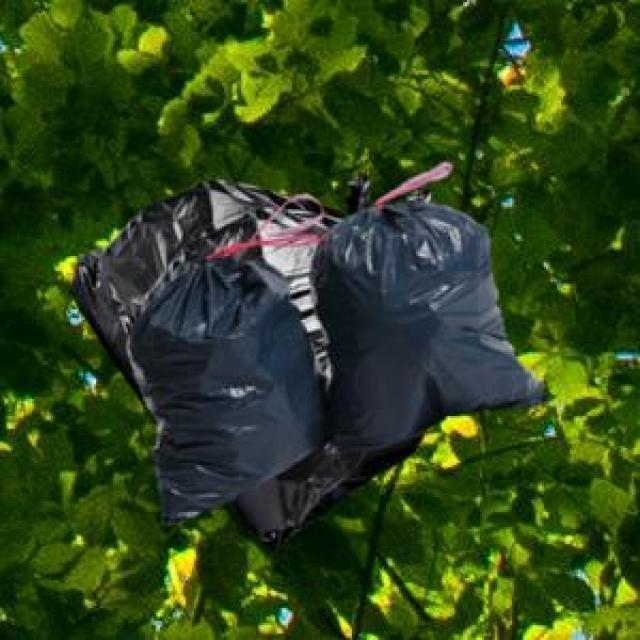waste: (79, 162, 545, 539)
